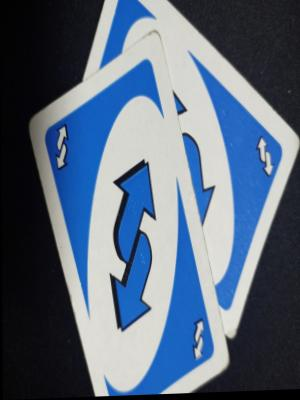blue: (67, 100, 187, 365)
